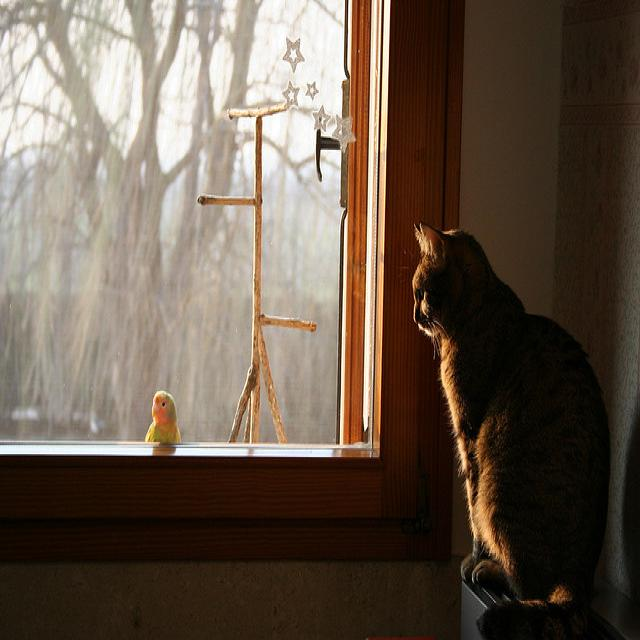Cat: (379, 204, 622, 636)
